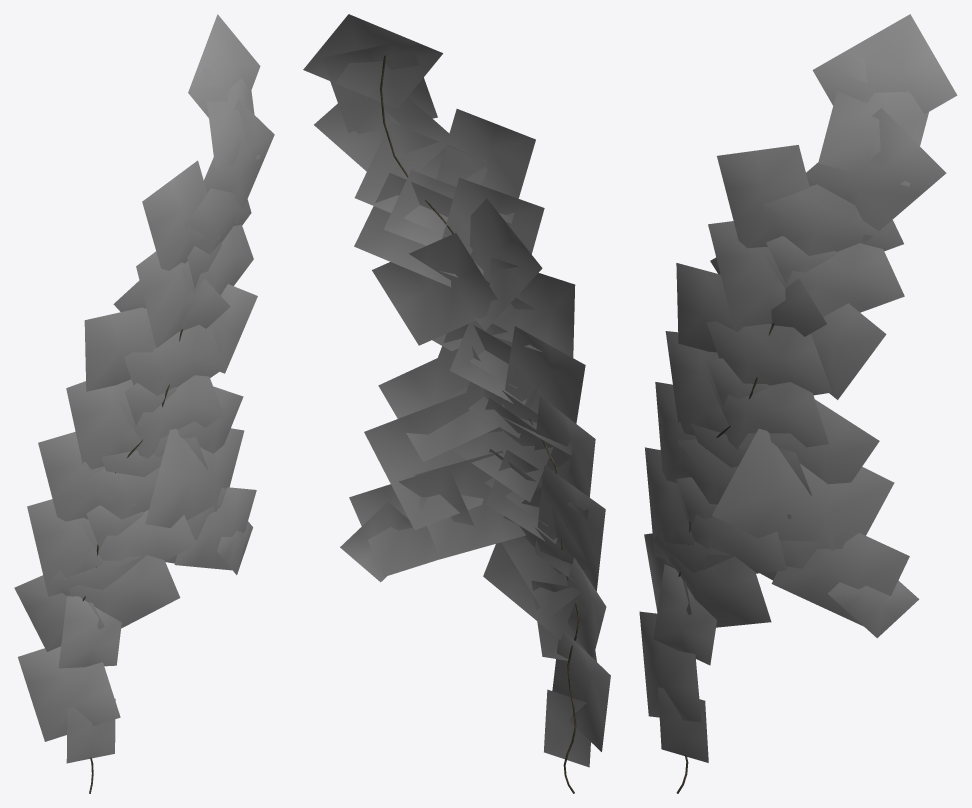
Rendered from Ivy.FBX.
The picture shows the model from 3 angles, left to right: view 1: azimuth 30°, elevation 25°; view 2: azimuth 150°, elevation 25°; view 3: azimuth 330°, elevation 25°; orthographic projection. The views are drawn at different scales.
Visible parts, largest first — view 1: Plane026, Plane001, Plane015, Plane022, Plane012, Plane016, Plane005, Plane006, Plane010, Plane013, Plane003, Plane035 (+20 smaller); view 2: Plane020, Plane026, Plane035, Plane022, Plane025, Plane029, Plane015, Plane016, Plane024, Plane028, Plane027, Plane006 (+20 smaller); view 3: Plane026, Plane035, Plane027, Plane022, Plane012, Plane034, Plane029, Plane019, Plane018, Plane021, Plane013, Plane005 (+20 smaller).
Boxes of the visible parts, <box> form: Plane026: <box>145,428,244,527</box>; Plane001: <box>18,646,120,741</box>; Plane015: <box>66,379,141,469</box>; Plane022: <box>142,160,219,270</box>; Plane012: <box>124,324,224,395</box>; Plane016: <box>84,307,155,391</box>; Plane005: <box>64,555,180,628</box>; Plane006: <box>27,499,102,596</box>; Plane010: <box>38,431,135,521</box>; Plane013: <box>119,375,223,458</box>; Plane003: <box>58,596,121,668</box>; Plane035: <box>188,14,260,117</box>; Plane020: <box>372,233,497,345</box>; Plane026: <box>364,387,484,530</box>; Plane035: <box>303,14,442,108</box>; Plane022: <box>436,109,535,223</box>; Plane025: <box>378,346,498,462</box>; Plane029: <box>349,466,474,576</box>; Plane015: <box>500,326,585,455</box>; Plane016: <box>490,257,575,357</box>; Plane024: <box>469,198,542,330</box>; Plane028: <box>414,450,525,559</box>; Plane027: <box>314,97,454,185</box>; Plane006: <box>535,465,605,591</box>; Plane026: <box>712,428,894,550</box>; Plane035: <box>812,14,957,114</box>; Plane027: <box>806,108,946,242</box>; Plane022: <box>717,145,823,248</box>; Plane012: <box>706,321,831,395</box>; Plane034: <box>818,55,928,186</box>; Plane029: <box>771,533,909,626</box>; Plane019: <box>764,243,904,316</box>; Plane018: <box>763,184,903,255</box>; Plane021: <box>708,221,785,327</box>; Plane013: <box>706,371,828,449</box>; Plane005: <box>663,542,771,627</box>.
Bounding box in the file's own units: 0.1581 × 0.4031 × 0.0543.
